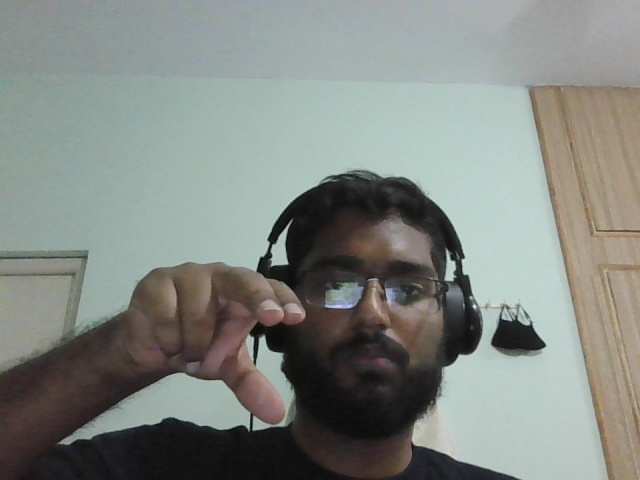No: (114, 227, 310, 439)
